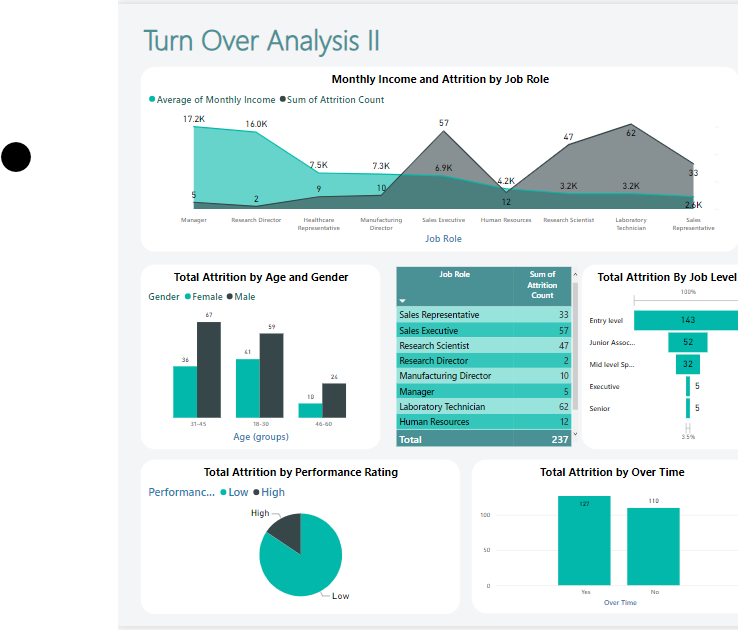

The dashboard page shown, as its layout file describes it:
{"tool":"powerbi","page":{"name":"Page 3","canvas":[1109,1059],"ordinal":3},"visuals":[{"type":"card","title":"Count Of Job Role","fields":{"Values":["Count(HR data.Job Role)"]},"box":[1293.5,0,241.3,106.5],"z":0},{"type":"textbox","box":[45.1,21.6,482.4,84.3],"z":1000},{"type":"clusteredColumnChart","title":"Total Attrition by Age and Gender","fields":{"Category":["HR data.Age (groups)"],"Y":["Sum(HR data.Attrition Count)"],"Series":["HR data.Gender"]},"box":[45.1,443.1,409.8,315.7],"z":2000},{"type":"pieChart","title":"Total Attrition by Performance Rating","fields":{"Y":["Sum(HR data.Attrition Count)"],"Category":["HR data.Performance Rating (groups)"]},"box":[45.1,774.5,545.1,264.7],"z":3000},{"type":"funnel","title":"Total Attrition By Job Level","fields":{"Category":["HR data.Job Level (groups)"],"Y":["Sum(HR data.Attrition Count)"]},"box":[796.1,443.1,290.2,315.7],"z":4000},{"type":"columnChart","title":"Total Attrition by Over Time","fields":{"Category":["HR data.Over Time"],"Y":["Sum(HR data.Attrition Count)"]},"box":[608.2,775.5,477.6,263.3],"z":5000},{"type":"areaChart","title":"Monthly Income and Attrition by Job Role","fields":{"Category":["HR data.Job Role"],"Y":["Avg(HR data.Monthly Income)"],"Y2":["Sum(HR data.Attrition Count)"]},"box":[45.1,105.9,1019.6,315.7],"z":6000},{"type":"tableEx","fields":{"Values":["HR data.Job Role","Sum(HR data.Attrition Count)"]},"box":[475.5,442.9,320.4,316.3],"z":7000}]}

Visuals, with their boxes on the page's 1109x1059 design canvas (x1, y1, x2, y2). These are canvas units, not pixel positions in the 738x630 screenshot, which may show the page scaled, cropped or inside an application window:
"Count Of Job Role" card: bbox=[1294, 0, 1535, 106]
textbox: bbox=[45, 22, 528, 106]
"Total Attrition by Age and Gender" clusteredColumnChart: bbox=[45, 443, 455, 759]
"Total Attrition by Performance Rating" pieChart: bbox=[45, 774, 590, 1039]
"Total Attrition By Job Level" funnel: bbox=[796, 443, 1086, 759]
"Total Attrition by Over Time" columnChart: bbox=[608, 776, 1086, 1039]
"Monthly Income and Attrition by Job Role" areaChart: bbox=[45, 106, 1065, 422]
tableEx - HR data.Job Role x Sum(HR data.Attrition Count): bbox=[476, 443, 796, 759]
